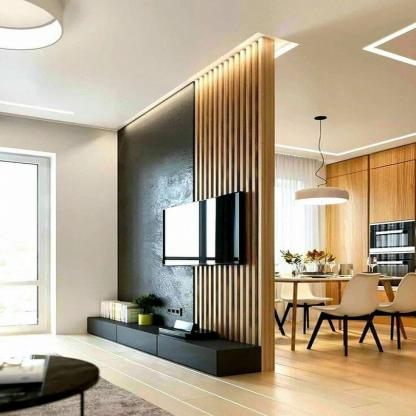Wall Panel: (110, 36, 273, 373)
